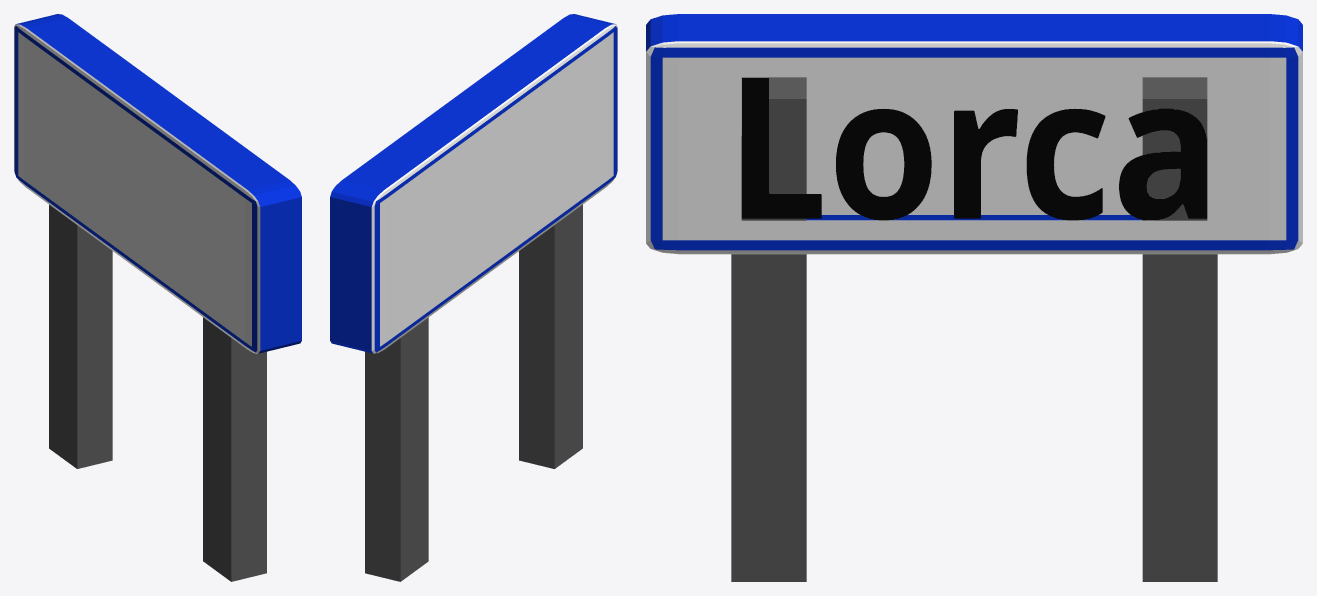
File: CartelLorca.fbx
The picture shows the model from 3 angles, left to right: view 1: azimuth 30°, elevation 25°; view 2: azimuth 150°, elevation 25°; view 3: azimuth 270°, elevation 25°; orthographic projection. The views are drawn at different scales.
Parts seen in each view (by area): view 1: Cube; view 2: Cube; view 3: Cube.
Boxes of the visible parts, x1,y1,x2,y2 form: Cube: (14,14,301,581); Cube: (330,14,617,581); Cube: (646,14,1302,581).
Size of the model in its own units: 26.8 by 225 by 246.
